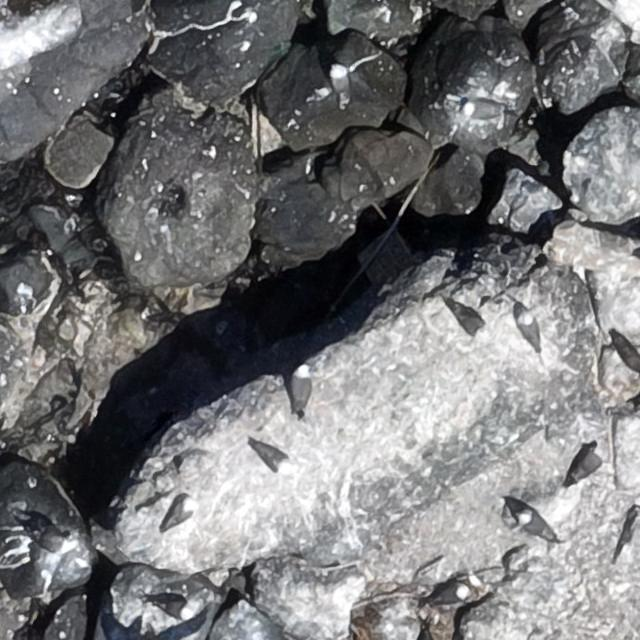umineko: (572, 443, 608, 490), (458, 302, 491, 342), (515, 308, 545, 351), (34, 524, 76, 554), (254, 443, 287, 469), (520, 511, 548, 536), (165, 502, 193, 527), (292, 370, 310, 408), (432, 584, 469, 602), (156, 598, 190, 616), (464, 100, 502, 116), (332, 68, 348, 98)
